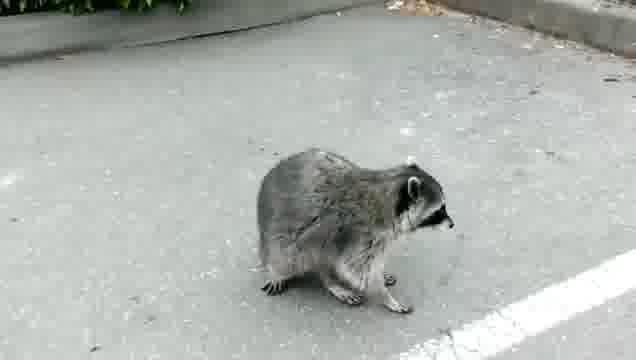raccoon: (253, 146, 456, 315)
